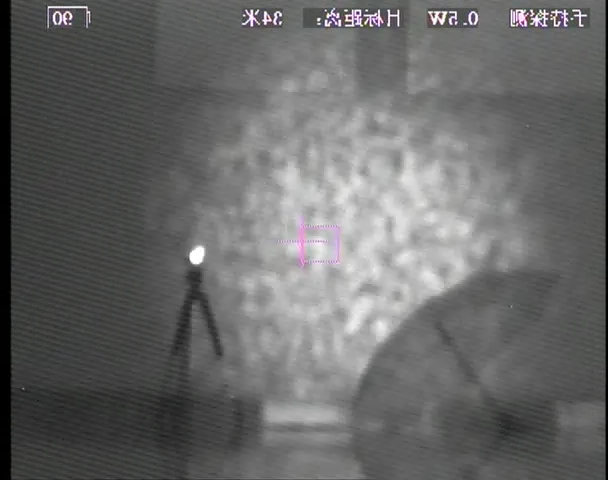my: (187, 244, 207, 265)
